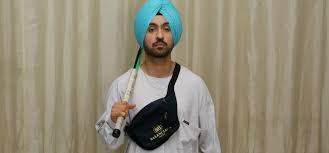helmet: (126, 1, 188, 58)
